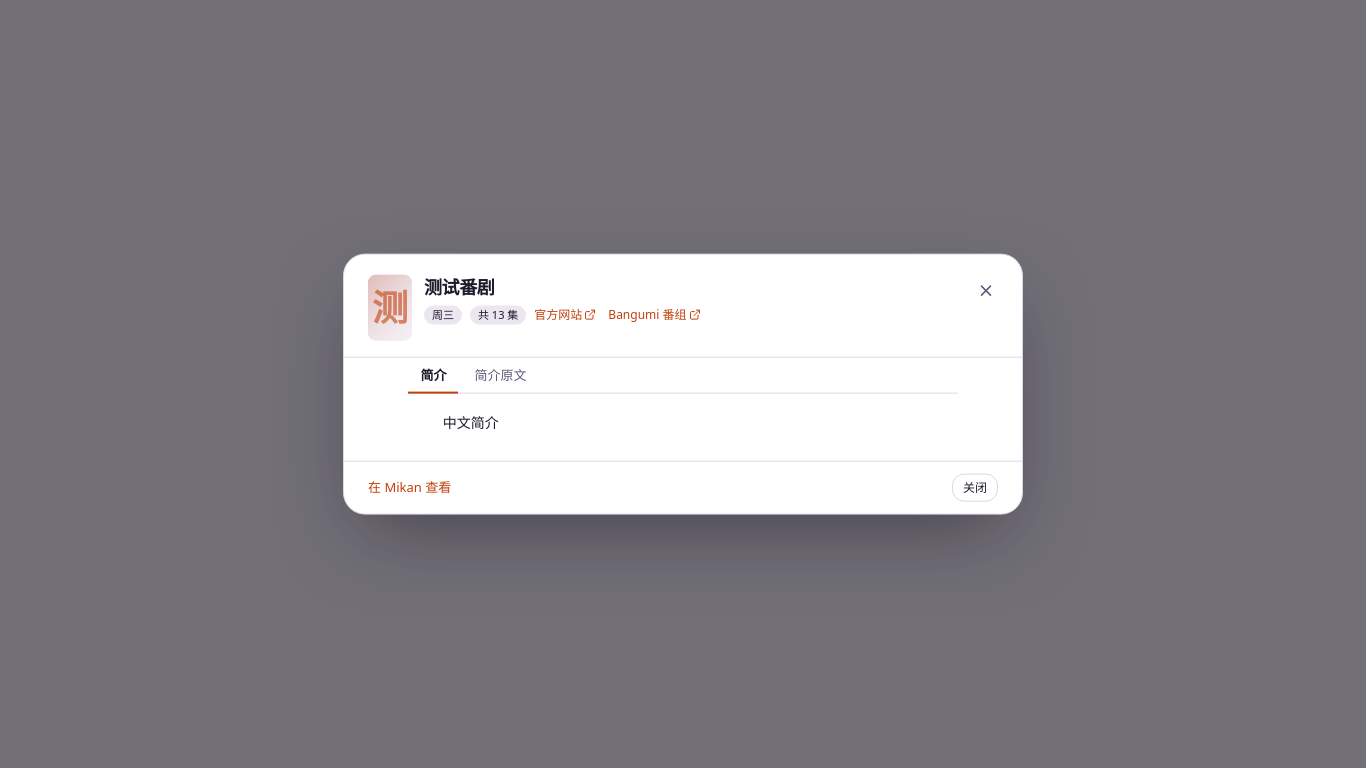
Test: SynopsisDialog 分页 › 含标记时默认显示简介，可切到简介原文
Expected: the text "中文简介" is shown, [443, 413, 499, 432]
Expected: the text "日文原文" is not shown
What coordinates should you click on to do the following:
click the tab "简介原文"
I would click on:
 (500, 376)
Its box is [462, 358, 538, 394].
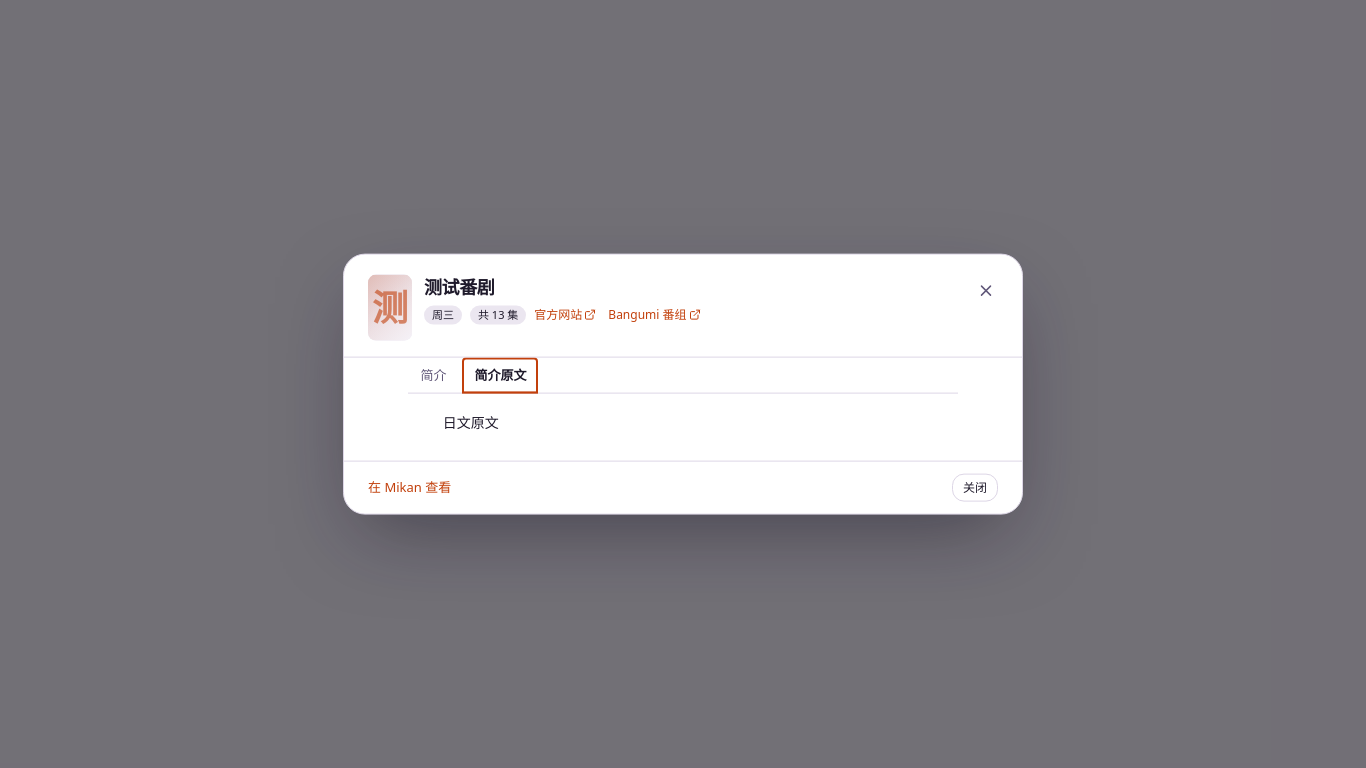
Expected: the text "日文原文" is shown, [443, 413, 499, 432]
